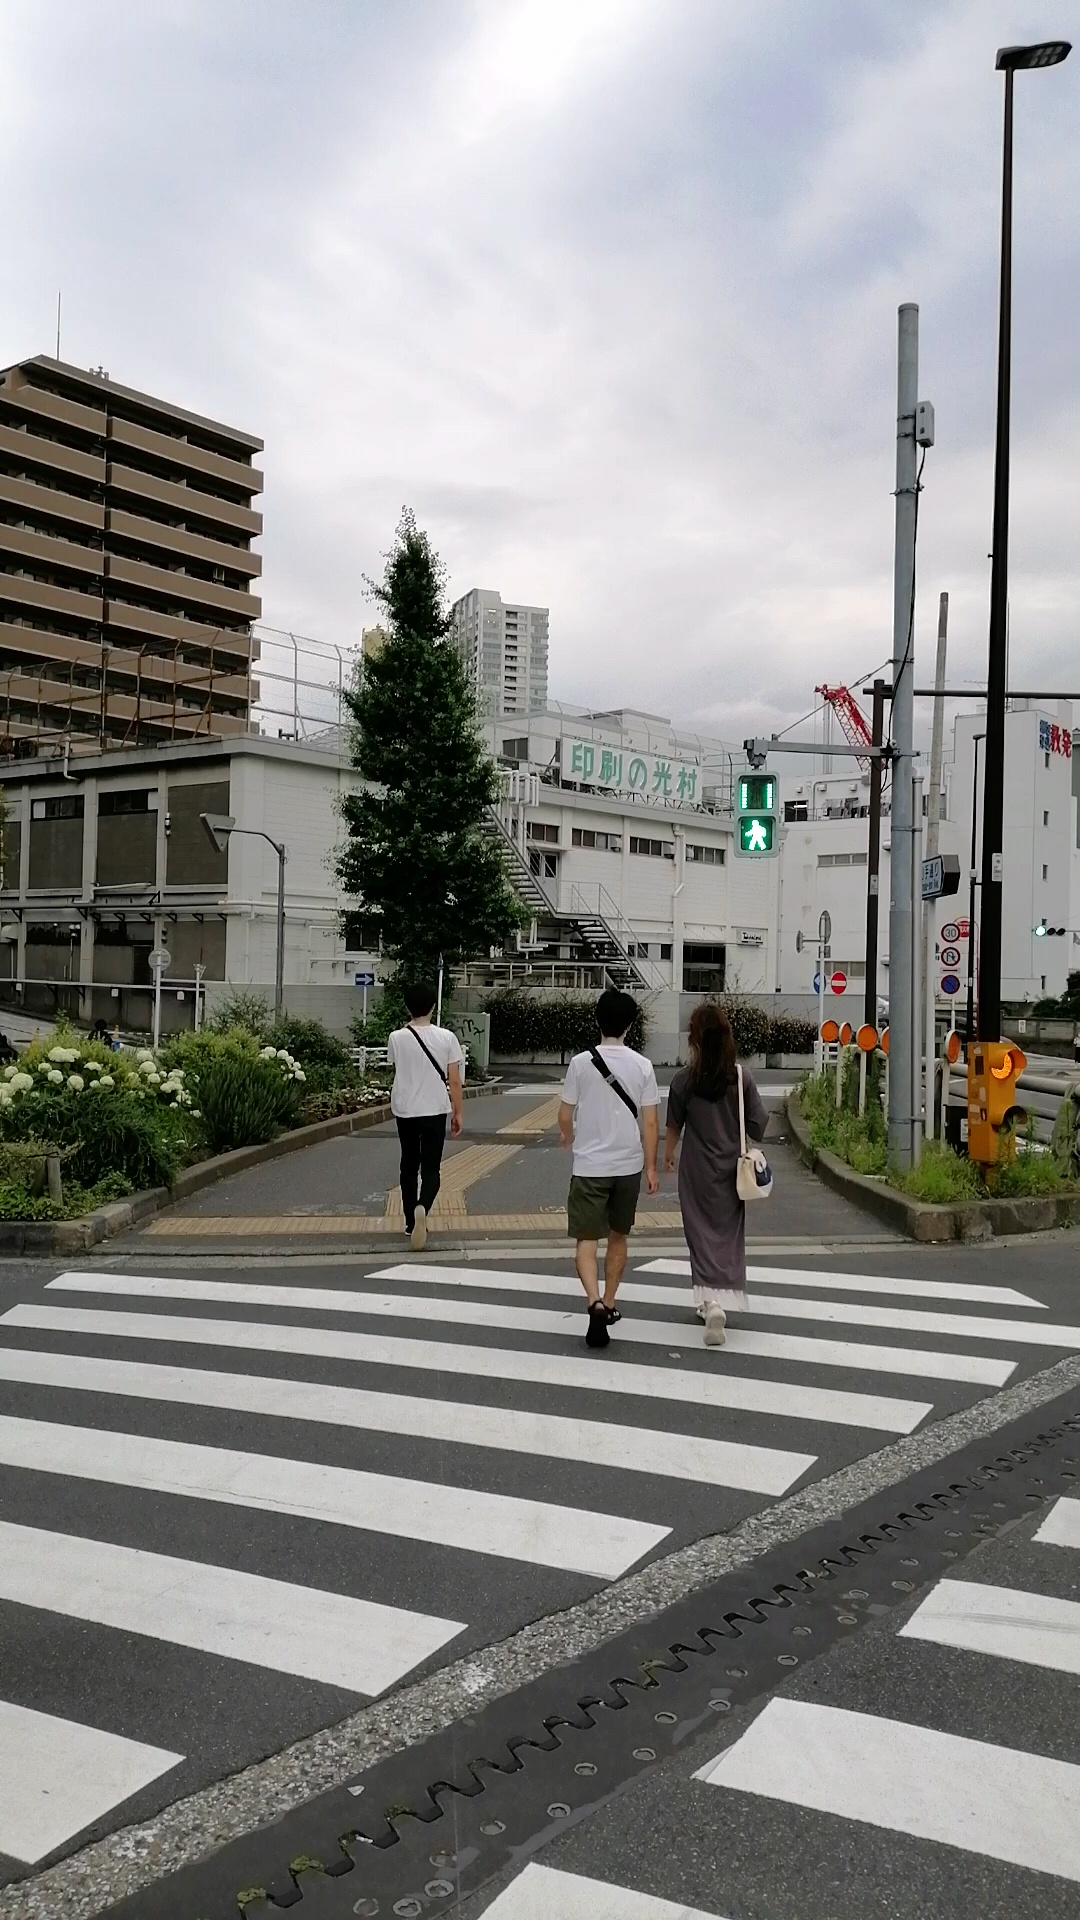green: (732, 771, 779, 858)
